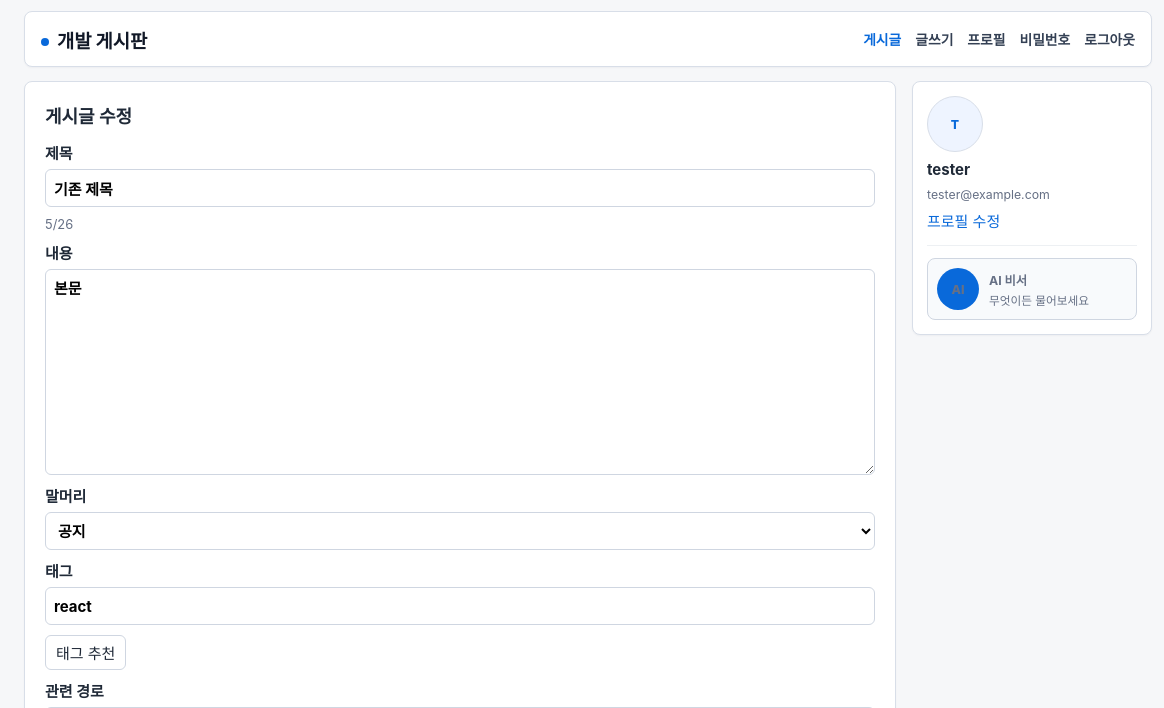
Test: 게시글 › 게시글 수정 후 상세 페이지로 이동한다
The width and height of the screenshot is (1164, 708).
Replace the text in the field labelled "제목" with "수정된 제목". click: (460, 188)
box: top-left (45, 169), bottom-right (875, 207)
(page scrolled)
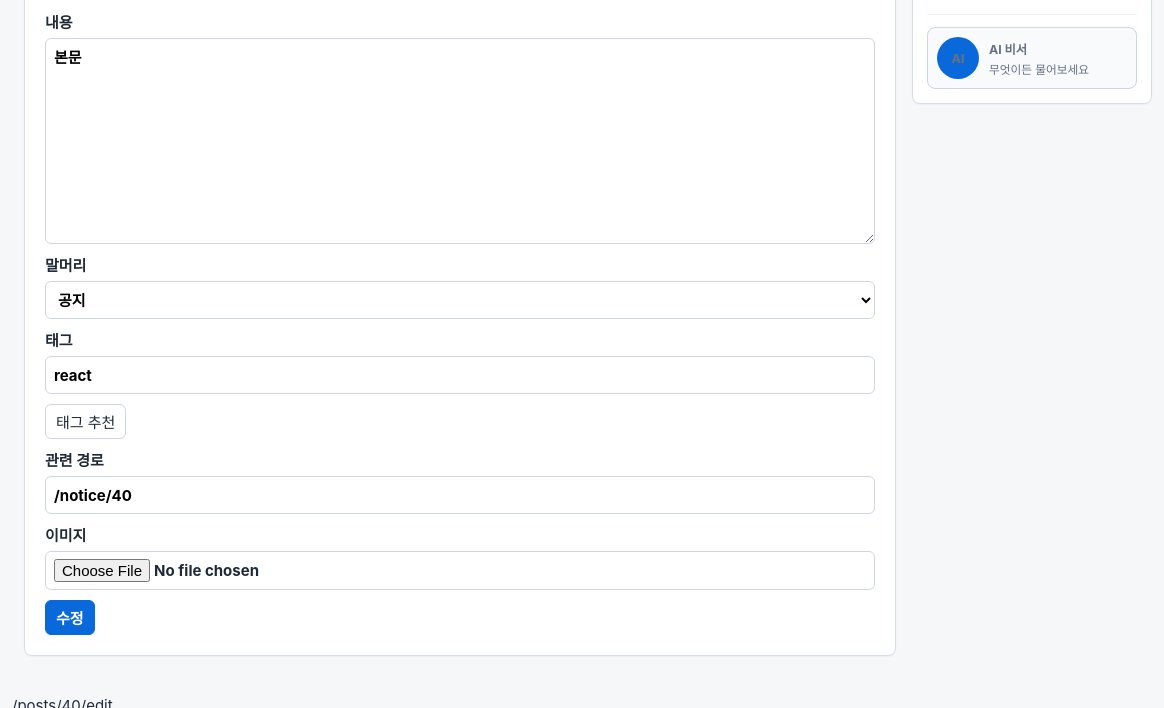
Click the button "수정". click: (70, 618)
box: top-left (45, 600), bottom-right (95, 635)
(page scrolled)
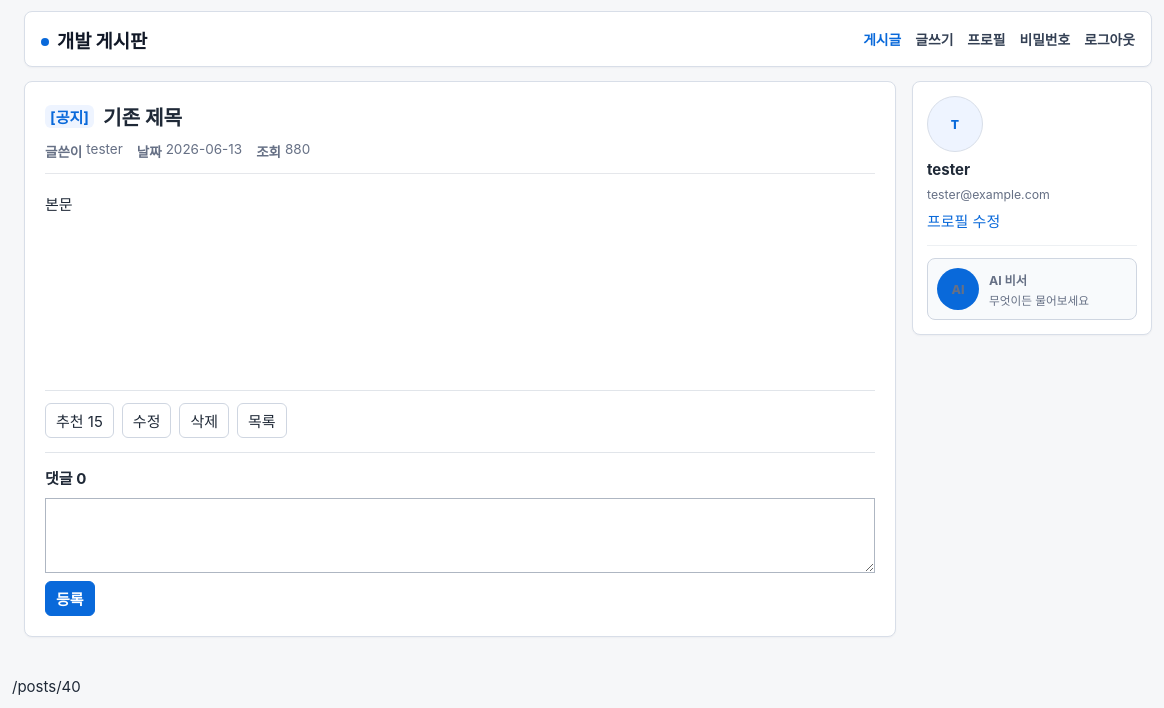
expect the text named "현재 주소" reads "/posts/40": met, box top-left (12, 677), bottom-right (81, 696)
